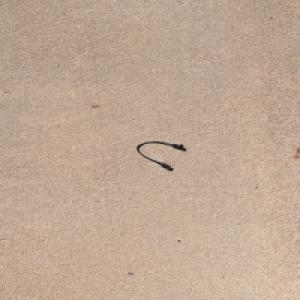Wire: (136, 140, 184, 169)
